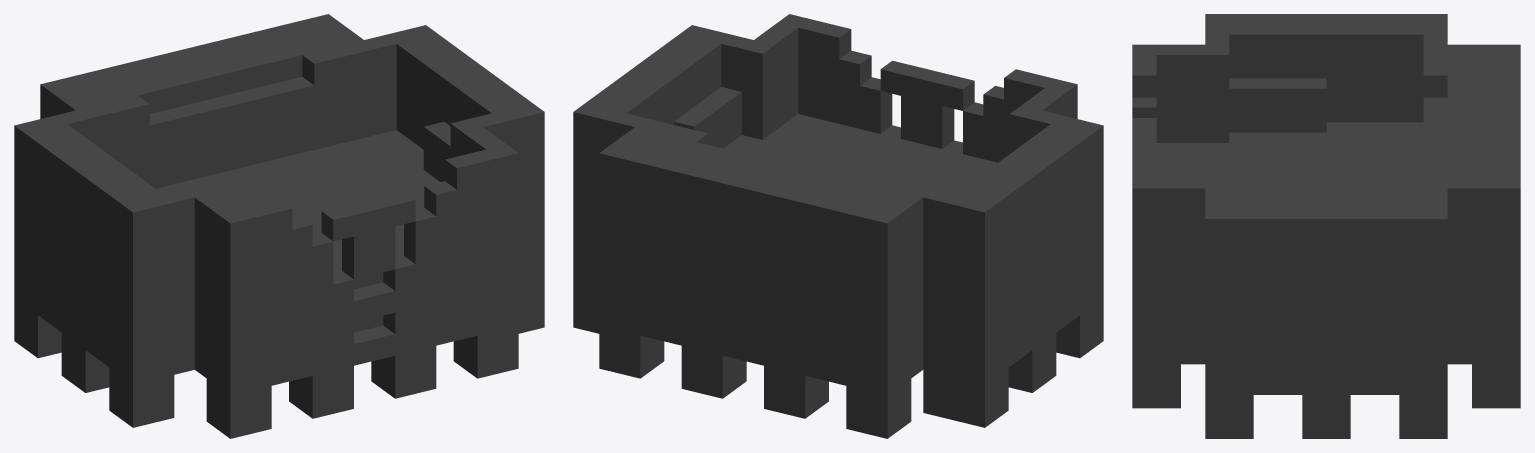
3 views of the same model, side by side, from view 1: azimuth 30°, elevation 25°; view 2: azimuth 150°, elevation 25°; view 3: azimuth 270°, elevation 25° (orthographic). The views are drawn at different scales.
Parts seen in each view (by area): view 1: 85; view 2: 85; view 3: 85.
Boxes of the visible parts, x1,y1,x2,y2 form: 85: [14, 14, 544, 438]; 85: [573, 14, 1103, 438]; 85: [1132, 14, 1520, 438].
Bounding box in the file's own units: 200 × 100 × 160.
Materials: 1 (1 with a texture image).
